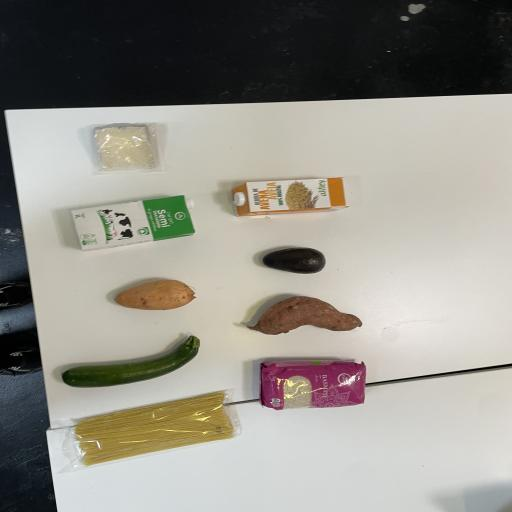avocado: (244, 238, 340, 290)
courgette: (54, 324, 209, 404)
cured_goat_cheese: (63, 96, 186, 186)
milk: (48, 186, 203, 263)
oat_milk: (222, 166, 374, 225)
rice: (242, 348, 386, 422)
spaghetti: (58, 376, 248, 477)
sweet_potato: (224, 288, 378, 344), (86, 263, 211, 324)
